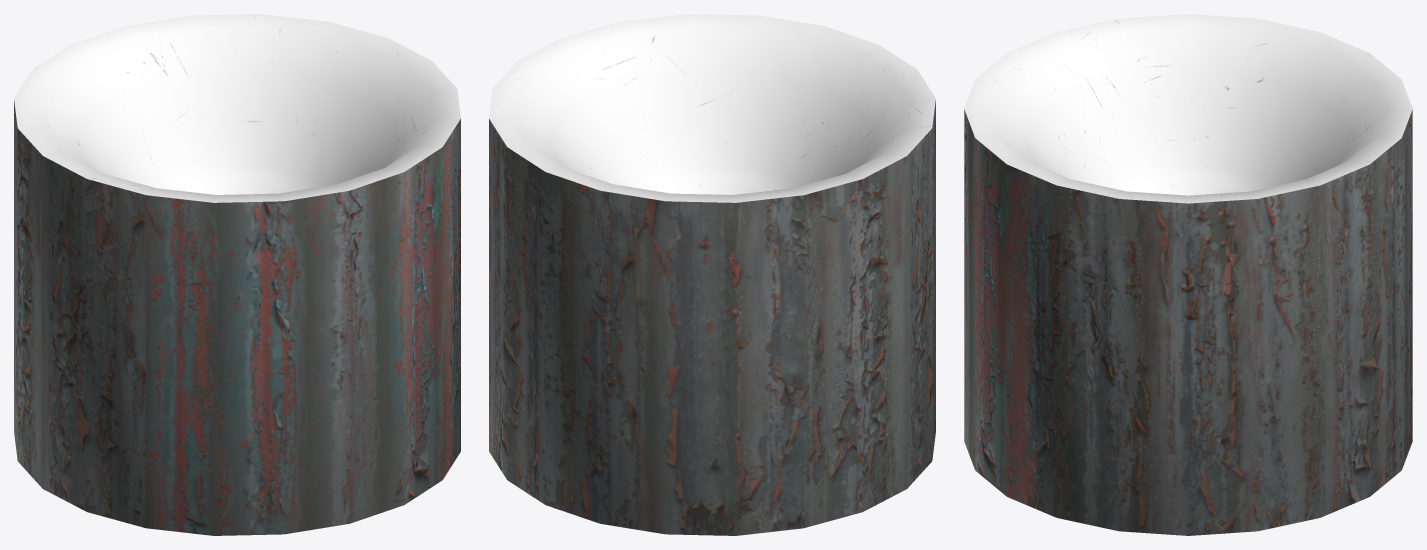
The model's file is glassroof.fbx.
The picture shows the model from 3 angles, left to right: view 1: azimuth 30°, elevation 25°; view 2: azimuth 150°, elevation 25°; view 3: azimuth 270°, elevation 25°; orthographic projection.
Visible parts, largest first — view 1: Walls, roof; view 2: Walls, roof; view 3: Walls, roof.
Part boxes in pixels (bbox=[...]): Walls: bbox=[14, 100, 460, 535]; roof: bbox=[14, 14, 460, 202]; Walls: bbox=[489, 100, 935, 535]; roof: bbox=[489, 14, 935, 202]; Walls: bbox=[964, 110, 1412, 535]; roof: bbox=[964, 14, 1412, 203].
Size of the model in its own units: 28.96 by 23.68 by 28.96.
